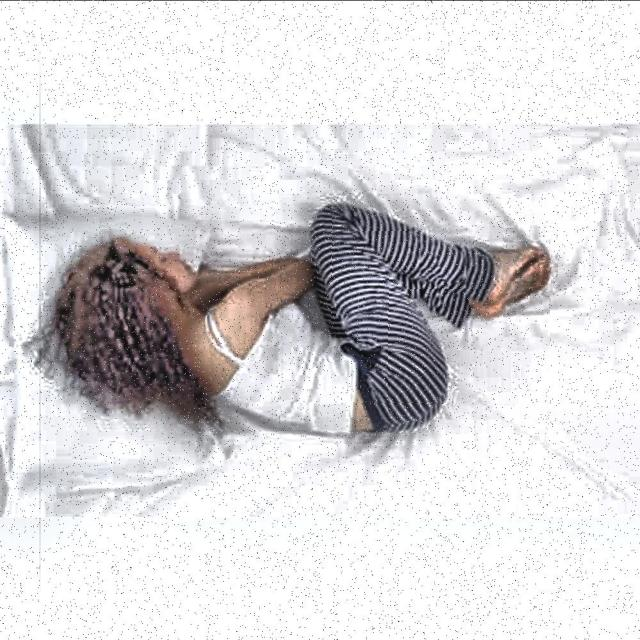Not_Supine: (55, 202, 551, 432)
